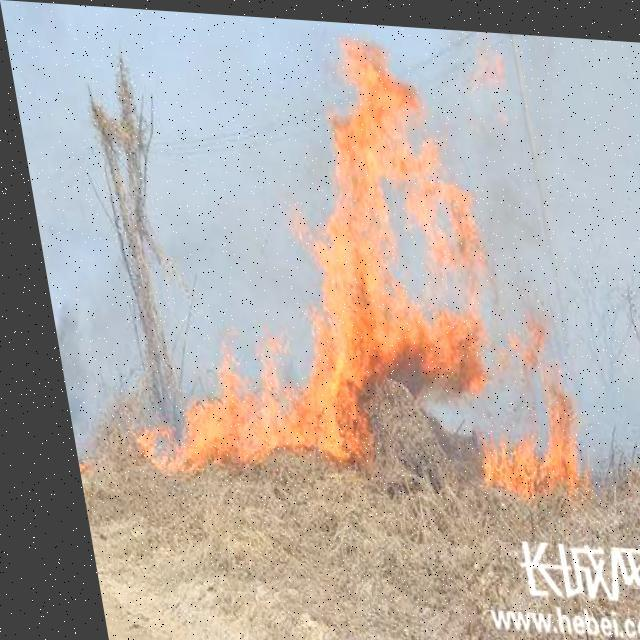Fire: (73, 19, 582, 497), (621, 418, 639, 556)
